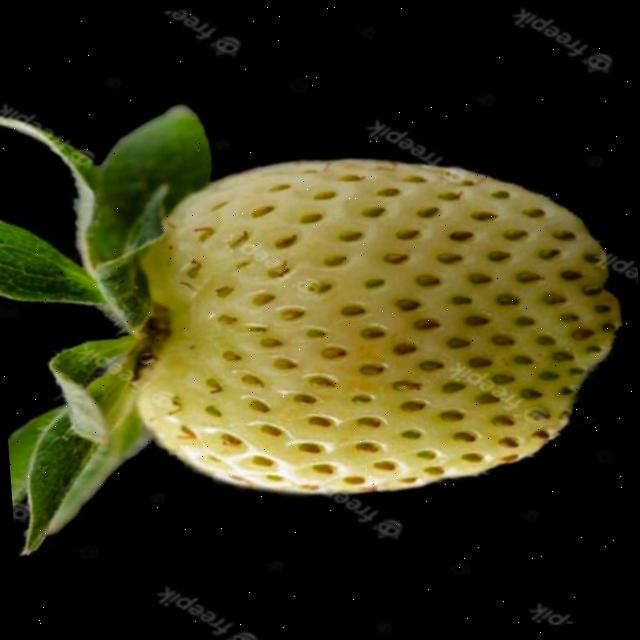strawberry: (121, 142, 632, 506)
